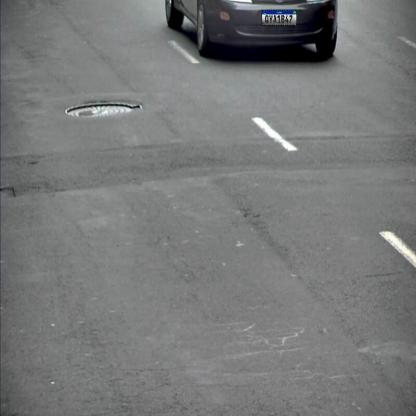PlacaM: (261, 10, 297, 26)
